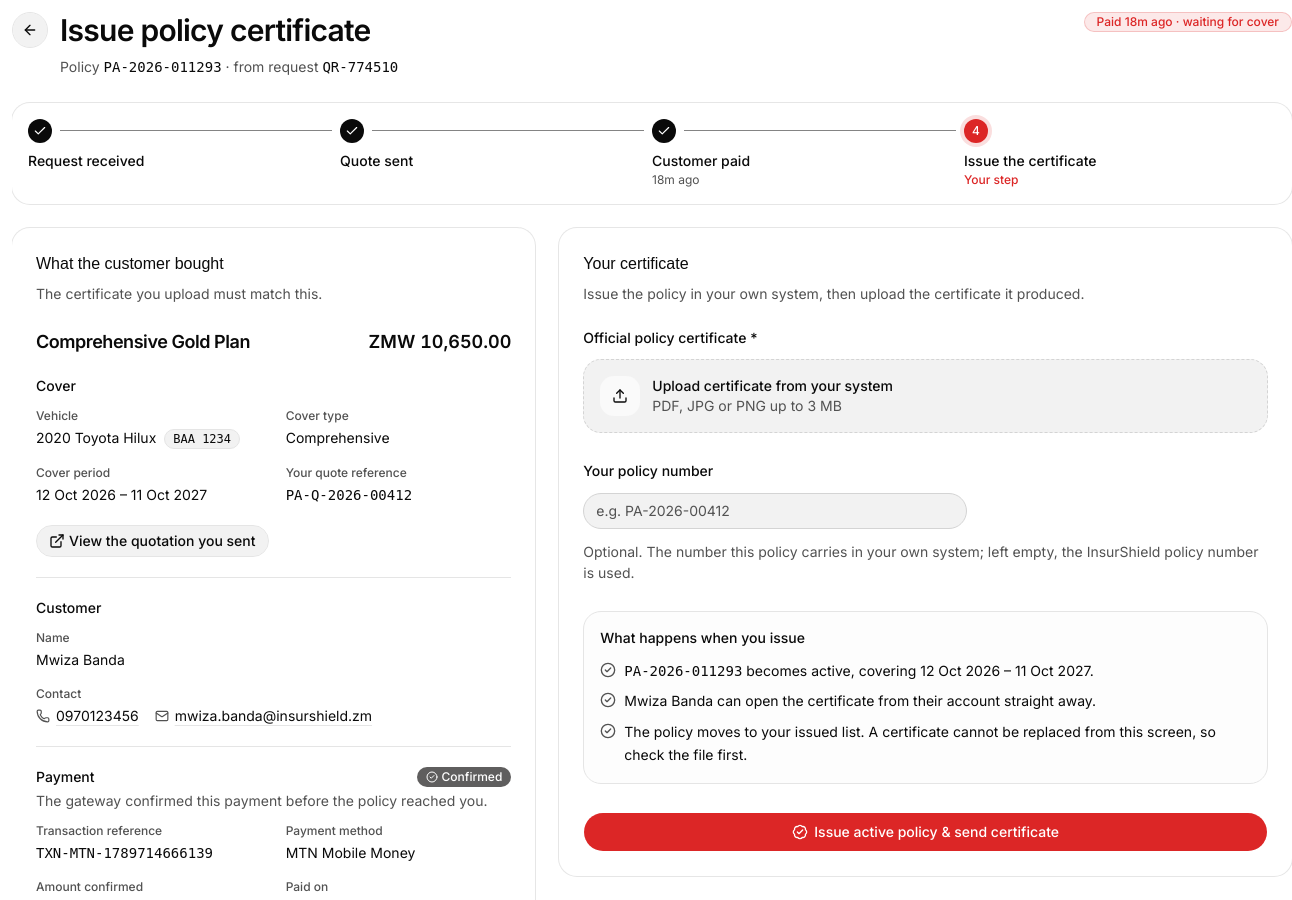
Scenario: PolicyIssuePanel › asks for the certificate before issuing
The image size is (1292, 900).
What coordinates should you click on to do the following:
click the button "Issue active policy & send certificate"
I would click on:
 (926, 832)
Its box is [583,812,1268,852].
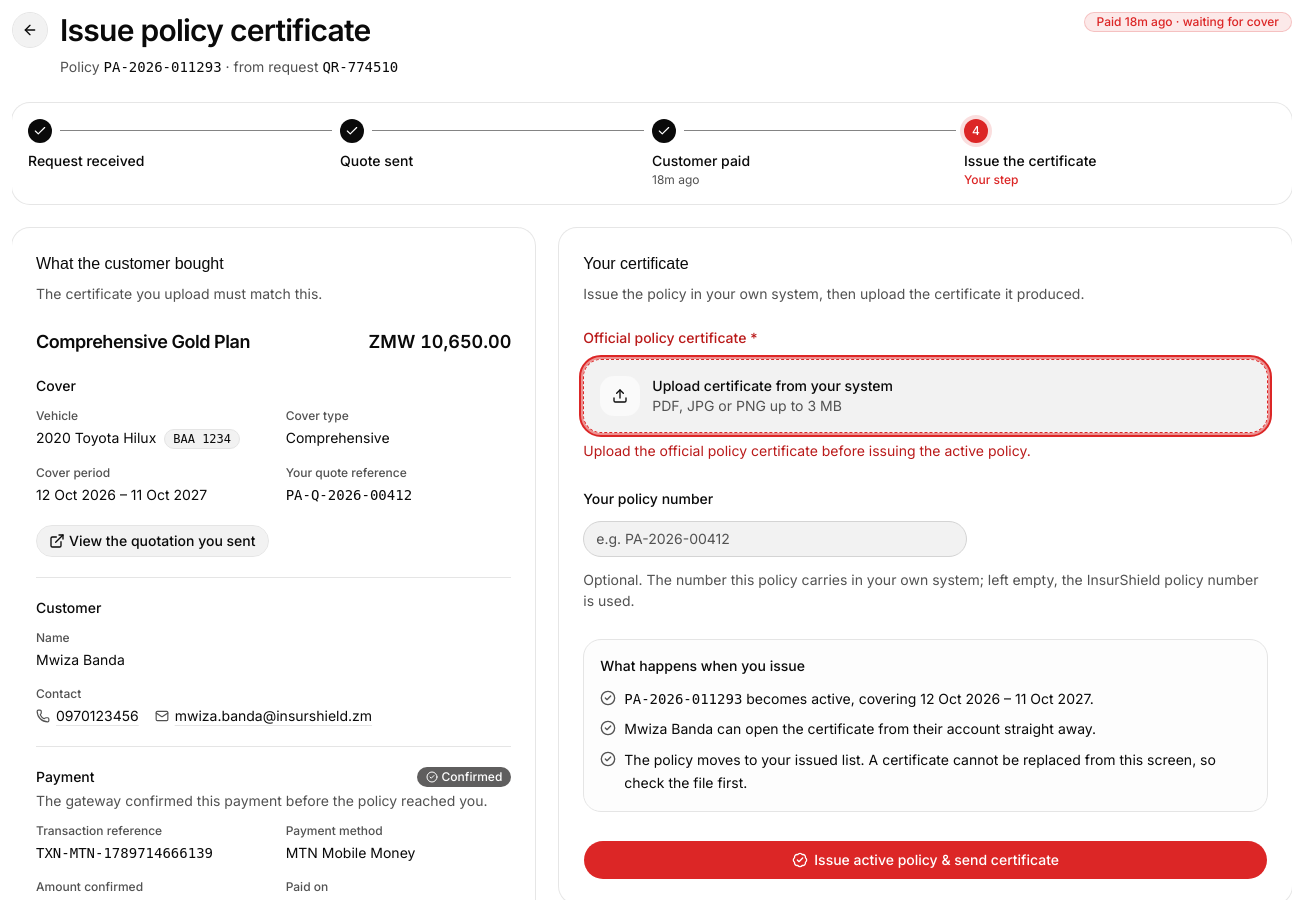
Now the message reads "Upload the official policy certificate before issuing the active policy.", box [583,442,1031,459]
